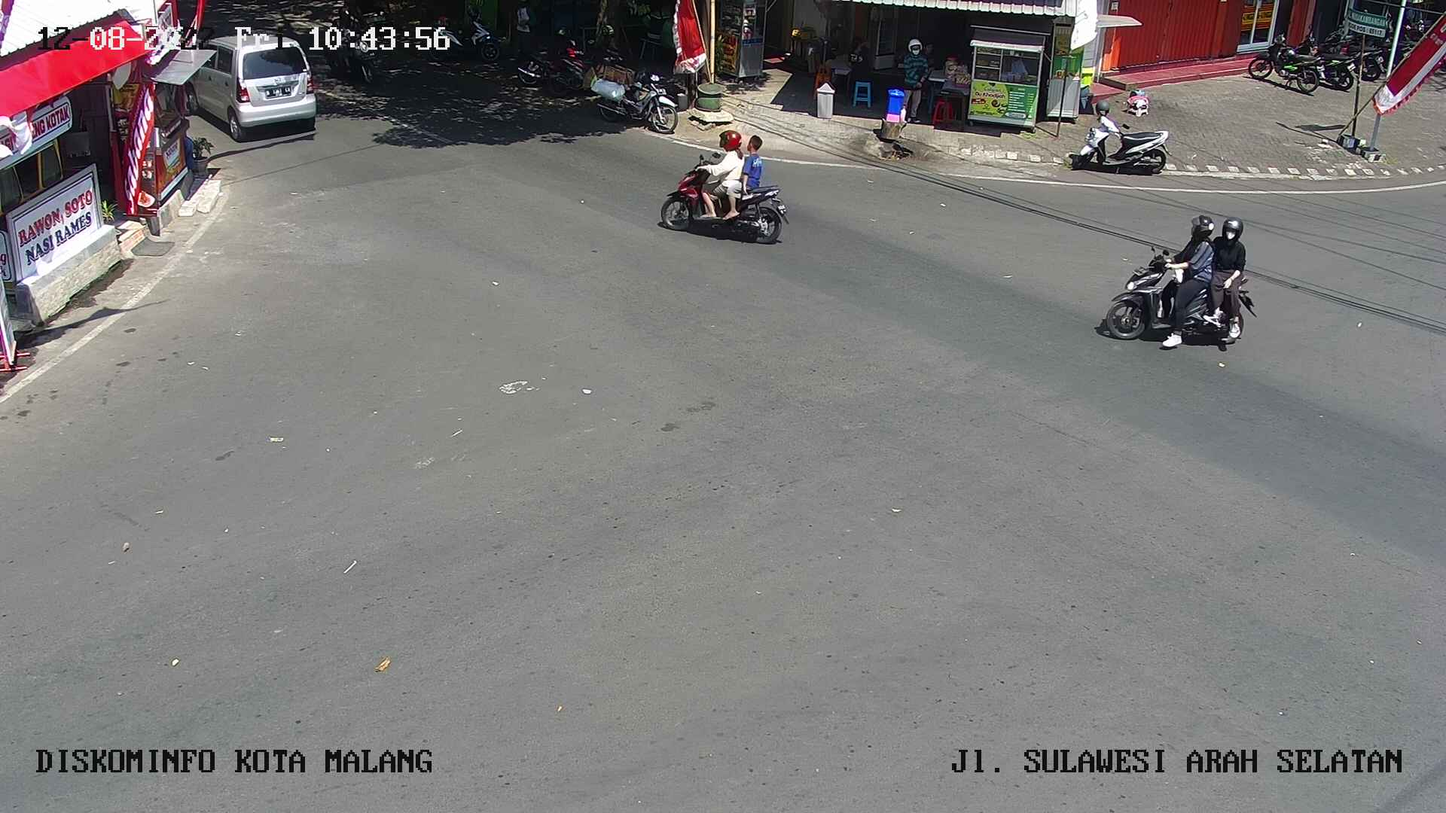with_helmet: (1094, 206, 1267, 357)
without_helmet: (655, 122, 798, 250)
